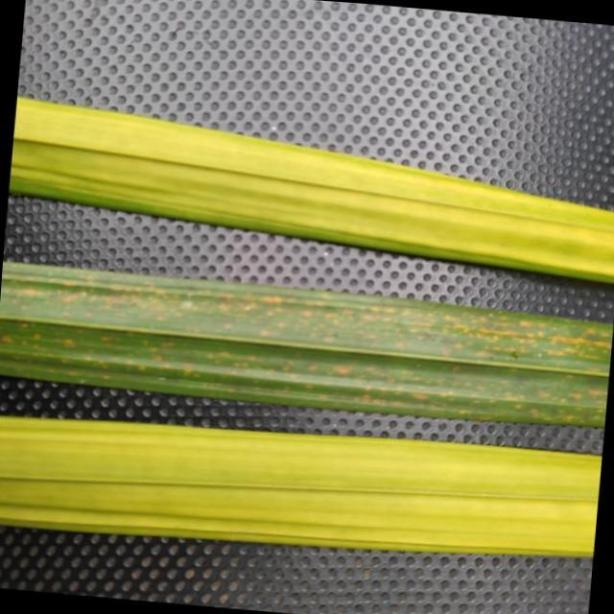nitrogen: (12, 81, 614, 288), (1, 244, 614, 430), (0, 400, 614, 560)
